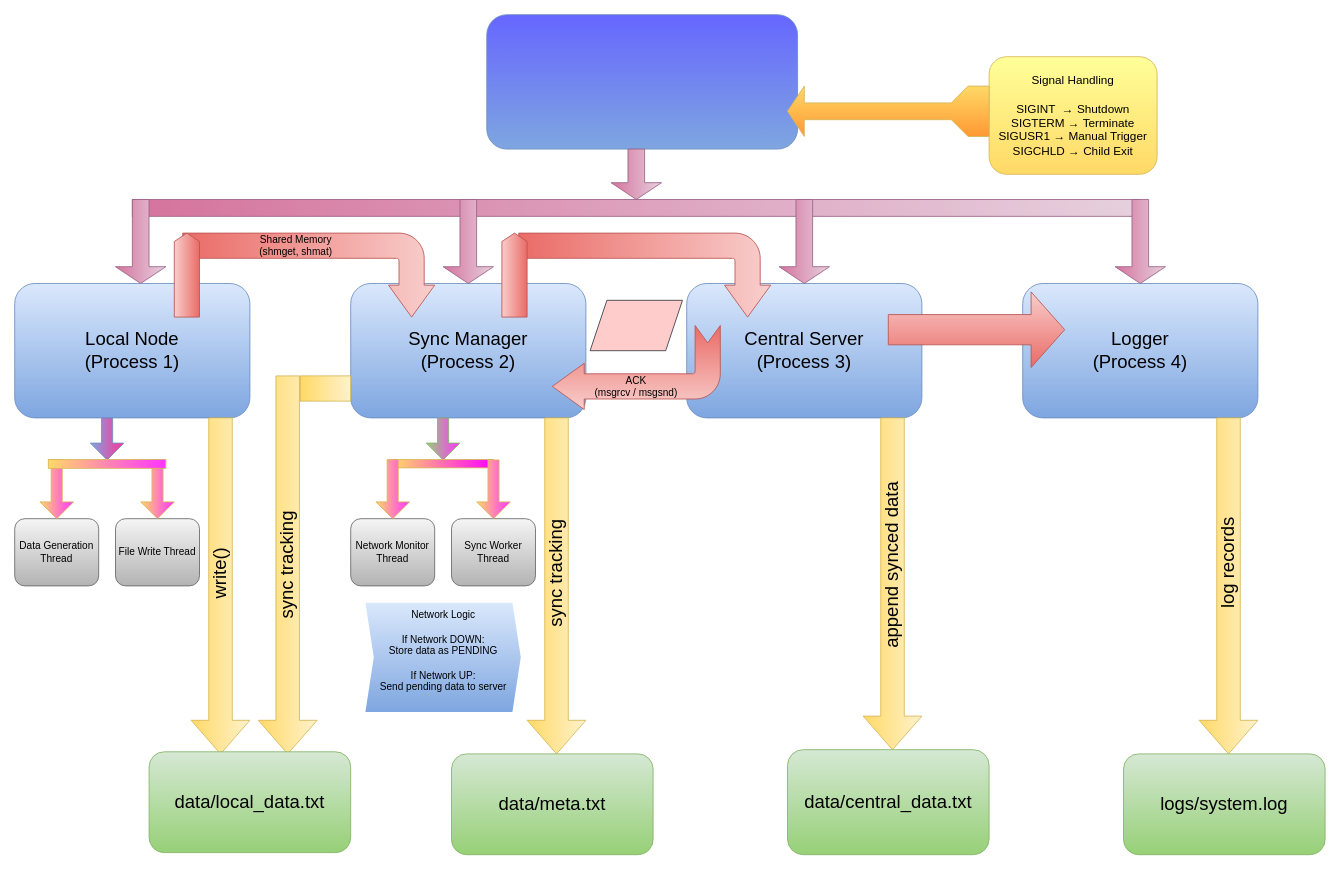
Some shapes in this 1340 by 869 pixel diagram are drawn without their labels. Each missing label, with the centre of its shape:
"ACK confirms successful synchronization" goes at pixel 635 325.
"FIFO / Named Pipe" goes at pixel 976 329.
"fork() + execl()" goes at pixel 635 207.
"Message Queue (msgsnd)" goes at pixel 644 274.
"Supervisor (Parent Process)" goes at pixel 642 81.
